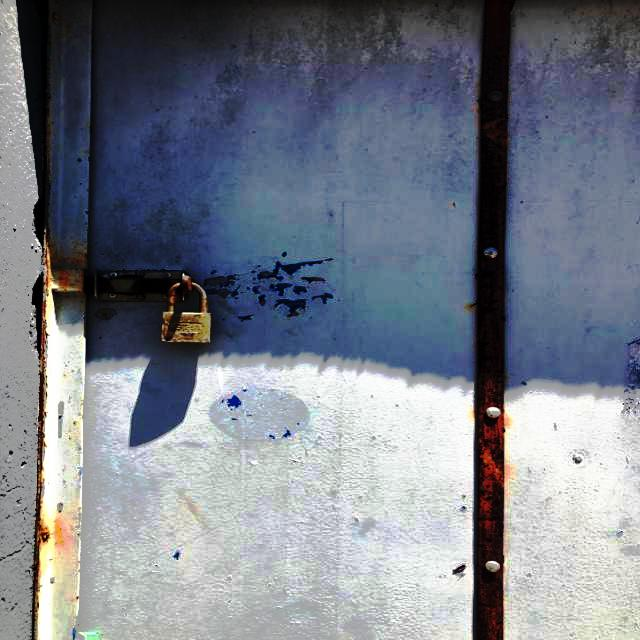Corrosion: (477, 0, 513, 640), (39, 229, 90, 336), (32, 369, 52, 591), (130, 263, 217, 308)
